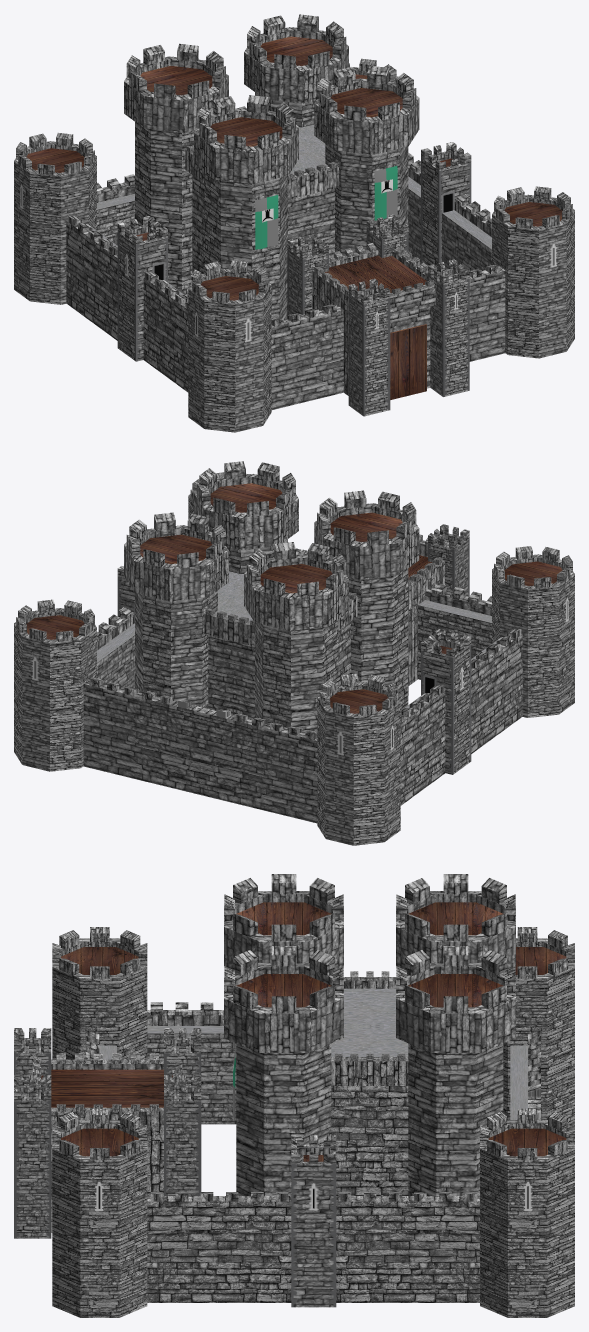
The model's file is castle.fbx.
3 renders of one model, top to bottom at view 1: azimuth 30°, elevation 25°; view 2: azimuth 150°, elevation 25°; view 3: azimuth 270°, elevation 25°, orthographic. The views are drawn at different scales.
Visible parts, largest first — view 1: pillars, pillars.001, walls, gate-house-cols, side-towers, gate-house, inner-fort, draw-door, gate-house.001, flag, flag.001; view 2: pillars, pillars.001, walls, inner-fort, side-towers, gate-house-cols, gate-house; view 3: pillars, pillars.001, walls, inner-fort, gate-house-cols, side-towers, gate-house, gate-house.001, inner-fort.001.
Boxes of the visible parts, left/top/right/bottom form: pillars: left=124, top=14, right=419, bottom=319; pillars.001: left=14, top=58, right=574, bottom=432; walls: left=66, top=152, right=505, bottom=409; gate-house-cols: left=287, top=214, right=469, bottom=416; side-towers: left=117, top=142, right=471, bottom=361; gate-house: left=312, top=250, right=435, bottom=395; inner-fort: left=185, top=124, right=338, bottom=274; draw-door: left=390, top=324, right=426, bottom=399; gate-house.001: left=312, top=243, right=434, bottom=296; flag: left=255, top=195, right=278, bottom=249; flag.001: left=374, top=166, right=397, bottom=220; pillars: left=124, top=461, right=419, bottom=732; pillars.001: left=14, top=472, right=574, bottom=845; walls: left=83, top=548, right=522, bottom=823; inner-fort: left=204, top=571, right=357, bottom=719; side-towers: left=117, top=566, right=471, bottom=774; gate-house-cols: left=296, top=524, right=469, bottom=695; gate-house: left=408, top=543, right=444, bottom=685; pillars: left=224, top=874, right=515, bottom=1195; pillars.001: left=52, top=927, right=574, bottom=1317; walls: left=86, top=1002, right=540, bottom=1302; inner-fort: left=331, top=977, right=408, bottom=1195; gate-house-cols: left=14, top=1028, right=201, bottom=1238; side-towers: left=291, top=1135, right=336, bottom=1307; gate-house: left=32, top=1059, right=174, bottom=1232; gate-house.001: left=33, top=1053, right=182, bottom=1111; inner-fort.001: left=331, top=971, right=408, bottom=1061.
Bounding box in the file's own units: 1400 × 800 × 1497.
